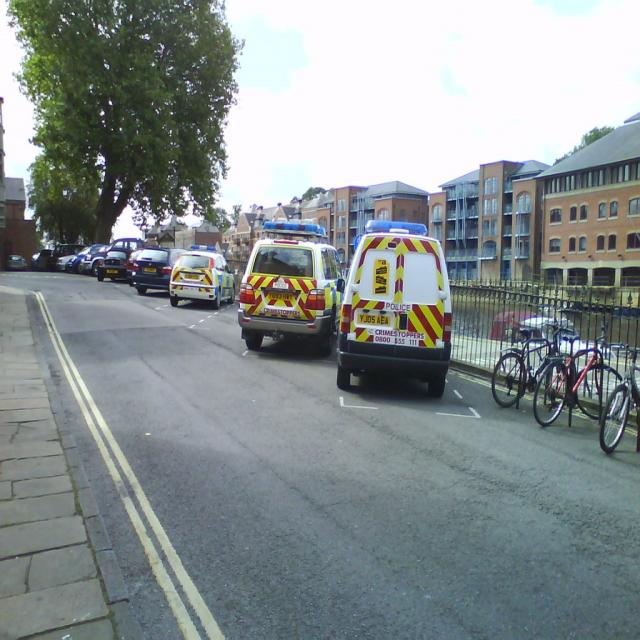Ambulance: (335, 220, 452, 399), (239, 222, 344, 363), (170, 243, 234, 310)
